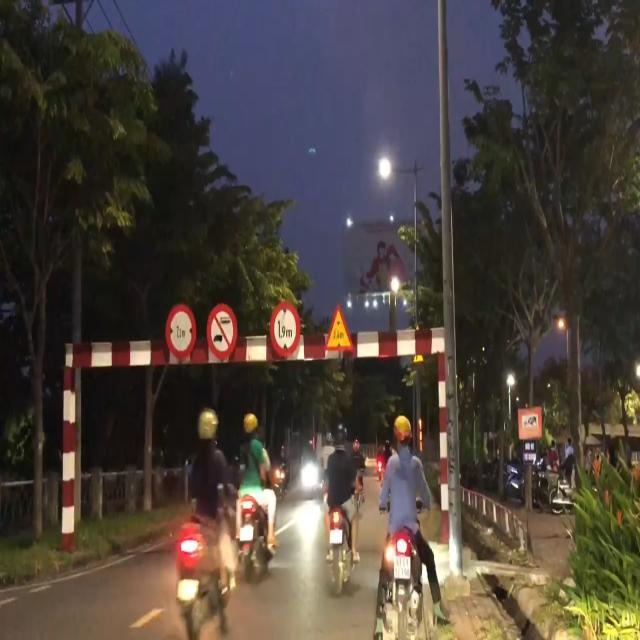Bien bao cam xe oto khach va xe oto tai: (205, 296, 239, 360)
Bien bao chieu cao tinh khong thuc te: (322, 298, 358, 358)
Bien bao han che chieu cao: (267, 293, 305, 363)
